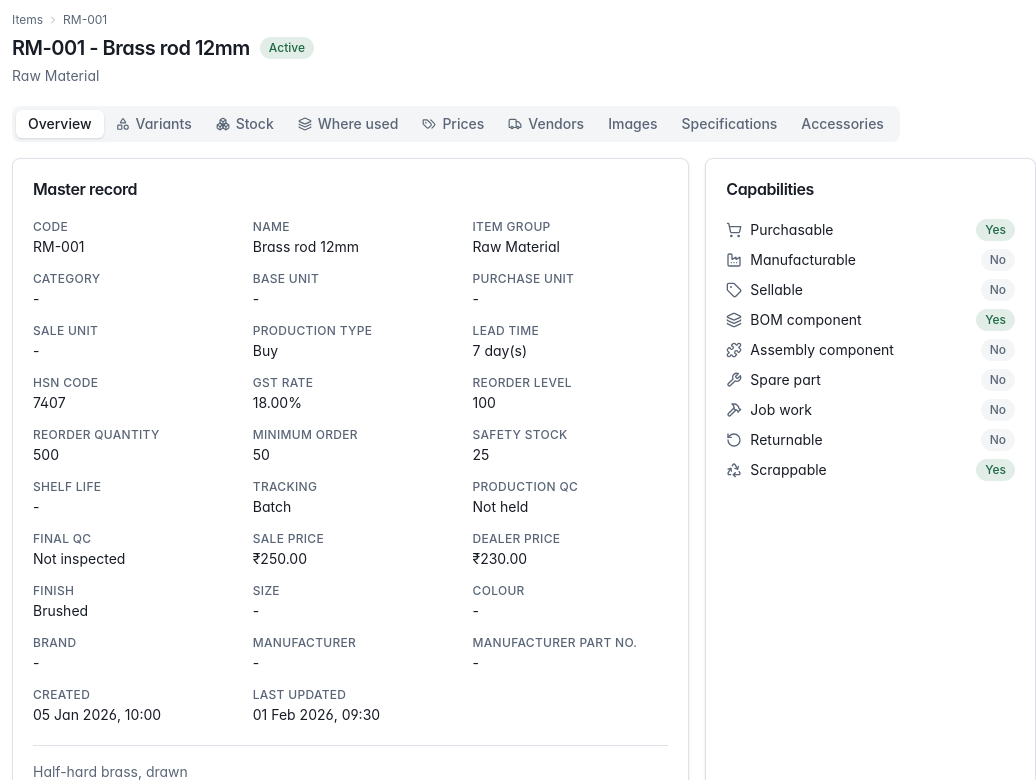
it: the tab panels › explains rather than queries when the stock right is missing
Expected: the heading "RM-001 - Brass rod 12mm" is shown, left=12, top=34, right=250, bottom=62
Click the tab "Stock".
click(245, 124)  # box left=204, top=110, right=286, bottom=138
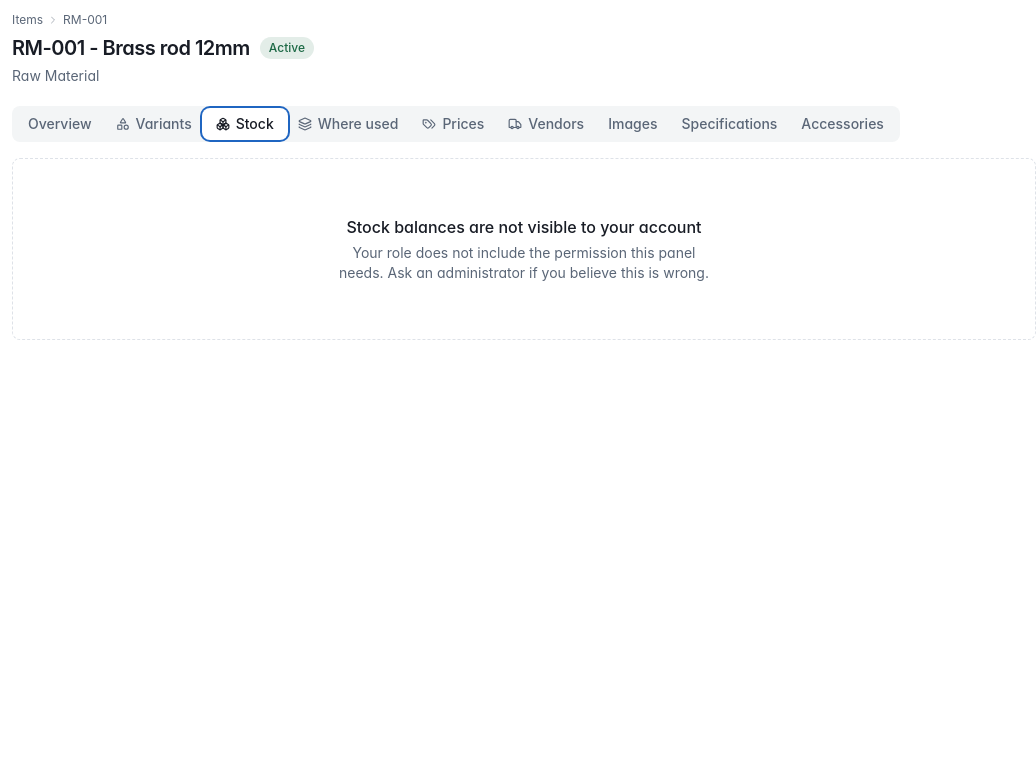
Now the text "Stock balances are not visible to your account" is shown, box left=346, top=217, right=702, bottom=237
